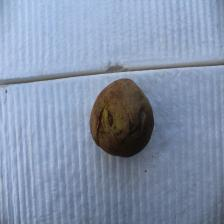Diseased-fungal potato: (88, 76, 156, 158)
